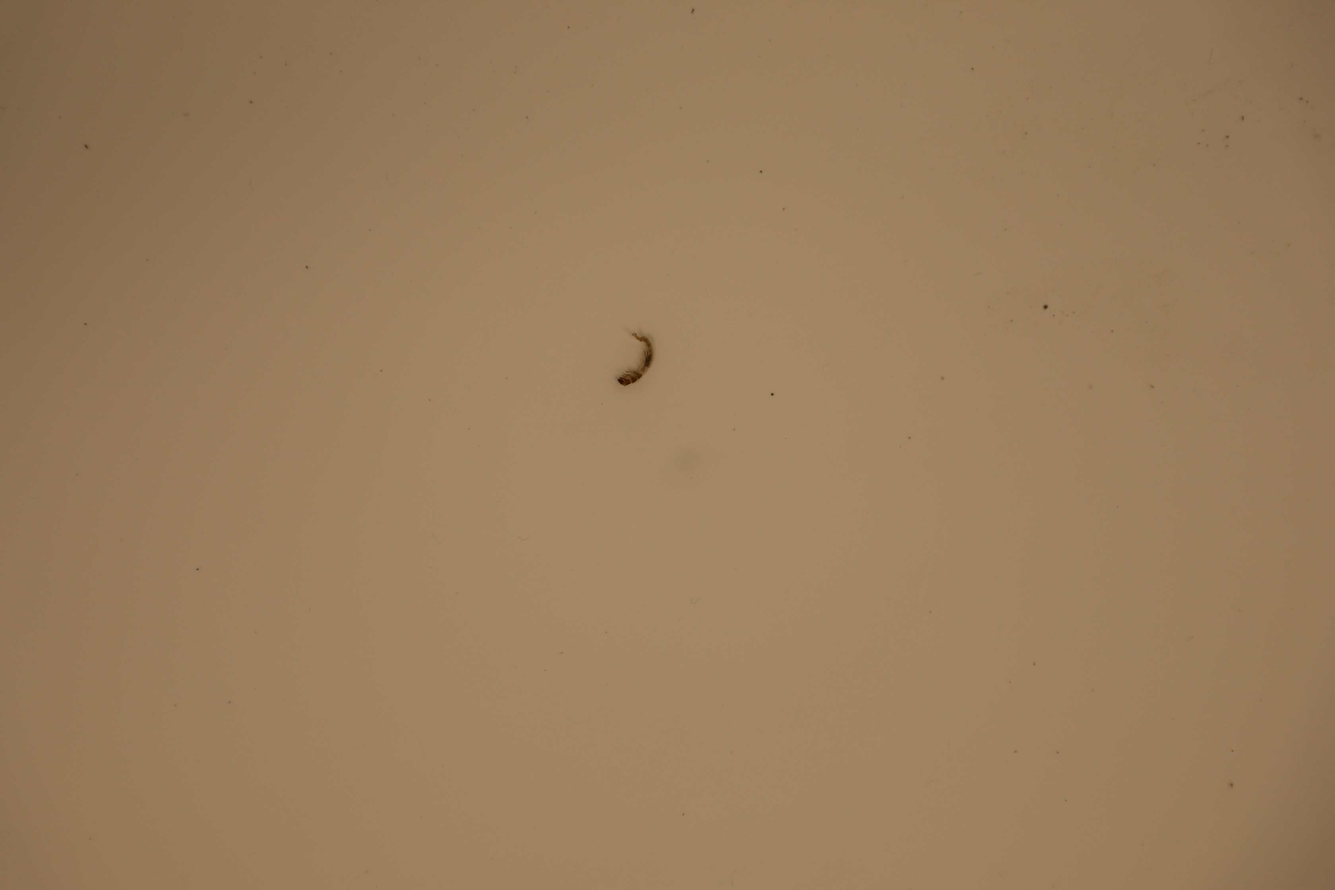Cadisfly: (611, 332, 652, 395)
